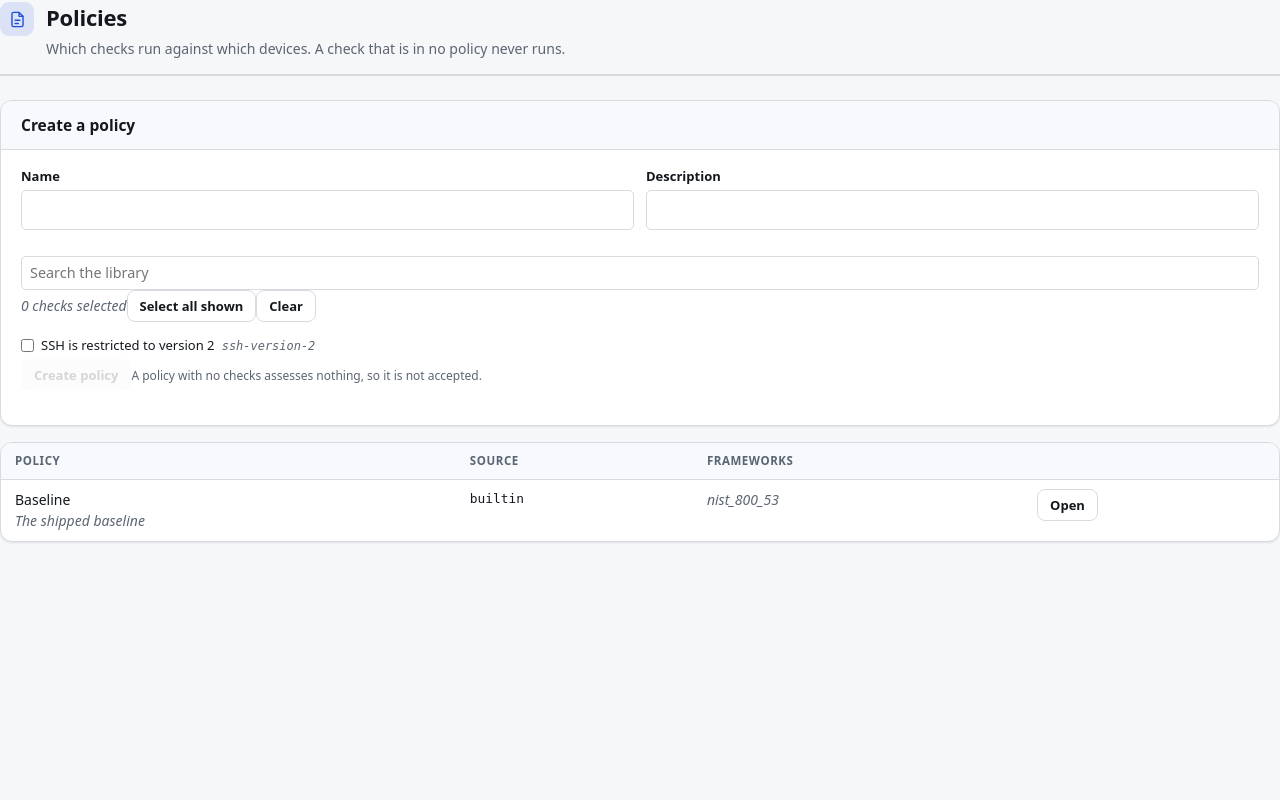
PoliciesPage › the distinction that matters › warns that changing the default changes every unassigned device
Click the button "Open" at coordinates (1068, 505), box [1037,489,1098,521]
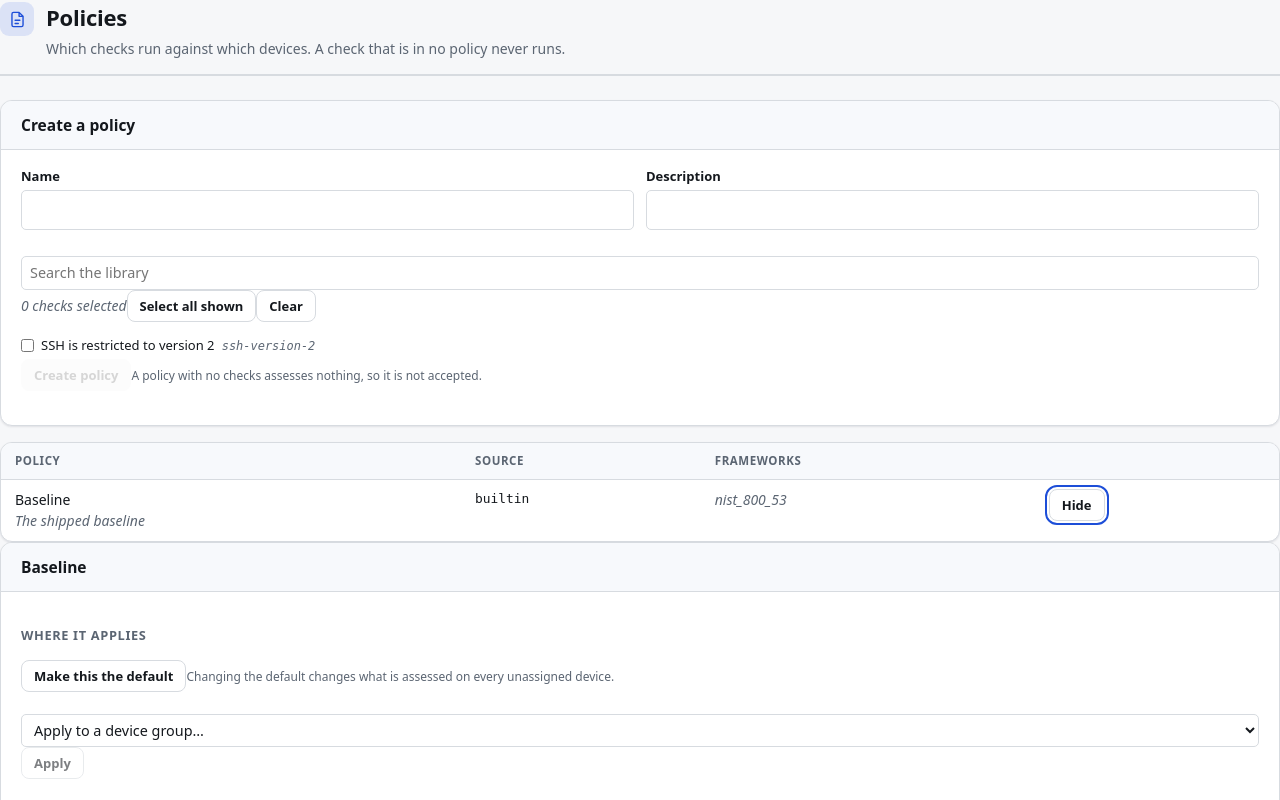
Expected: the text "every unassigned device" is shown, [186,668,614,685]
